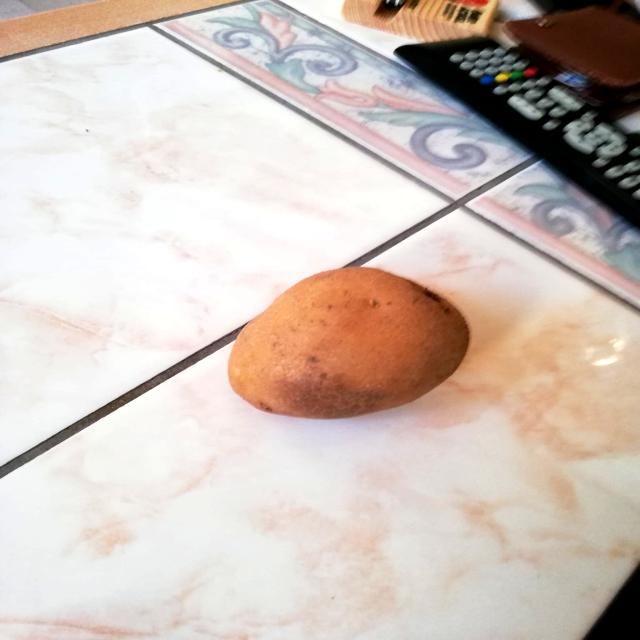potato: (223, 258, 477, 424)
